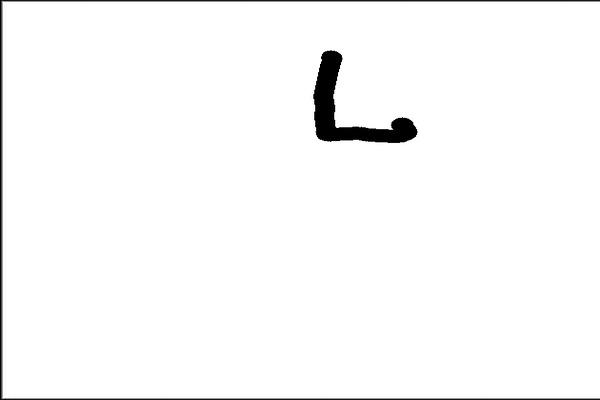L: (306, 41, 422, 149)
